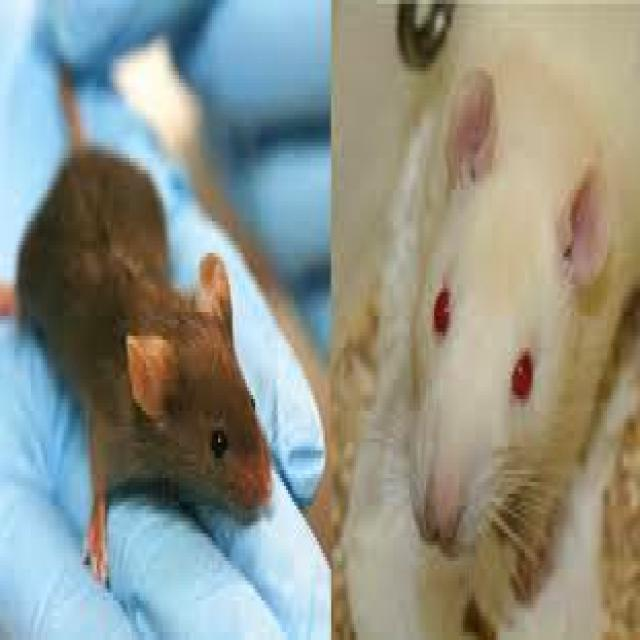rat: (412, 0, 640, 624), (19, 146, 272, 573)
